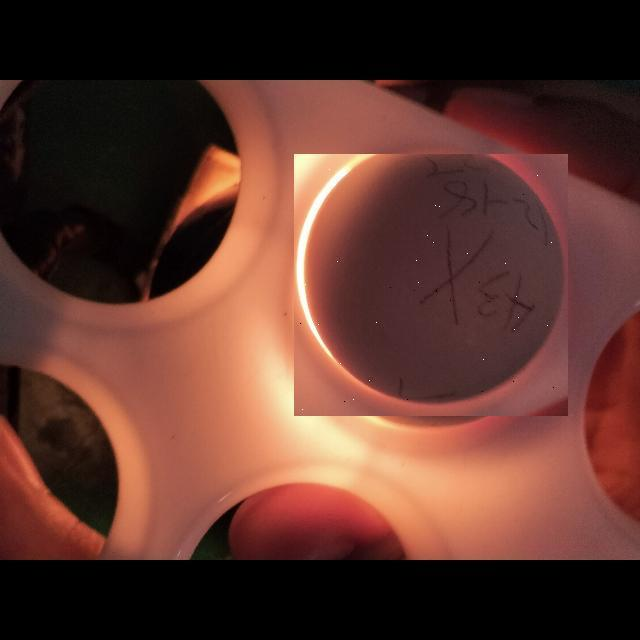AA - Premium: (297, 154, 567, 417)
